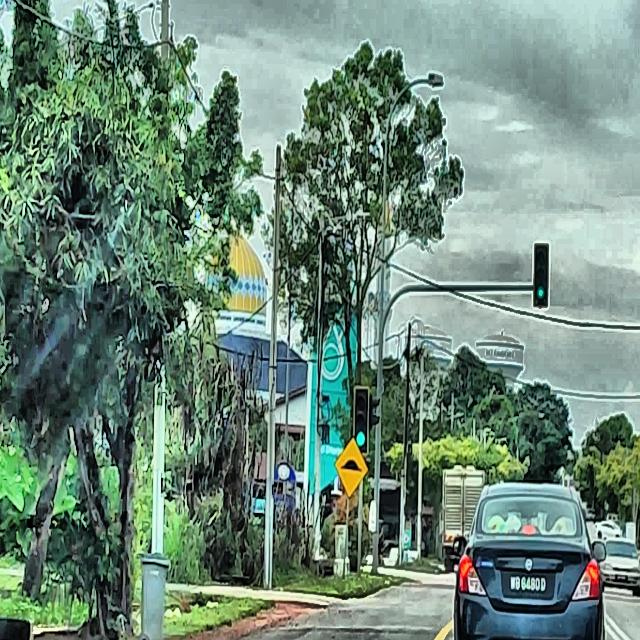green: (353, 384, 369, 452), (534, 244, 548, 308)
